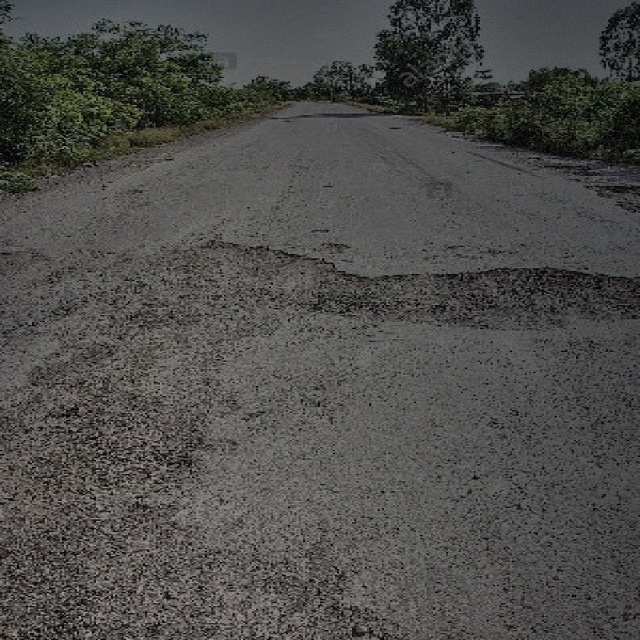pothole: (365, 264, 638, 333), (180, 234, 342, 321)
